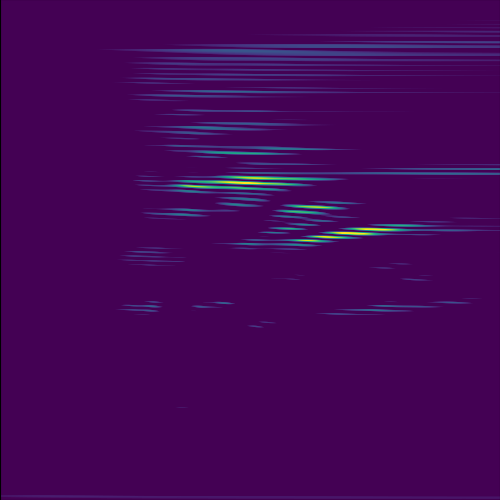semblance: (161, 169, 332, 195), (289, 222, 424, 245), (266, 201, 357, 219)
